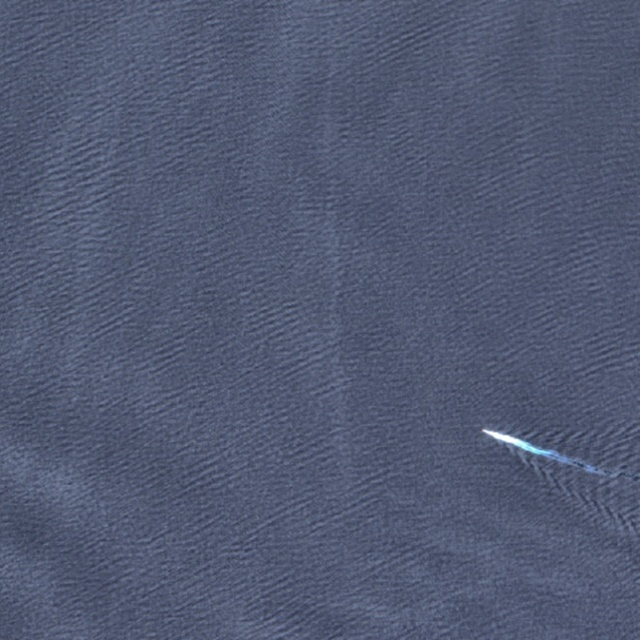wake: (468, 398, 634, 515)
